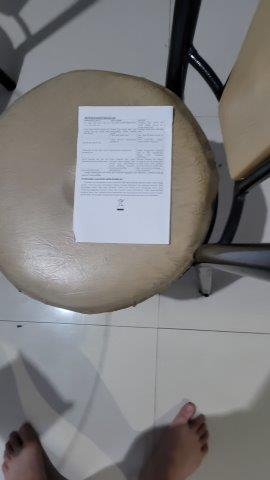kertas: (73, 105, 173, 243)
